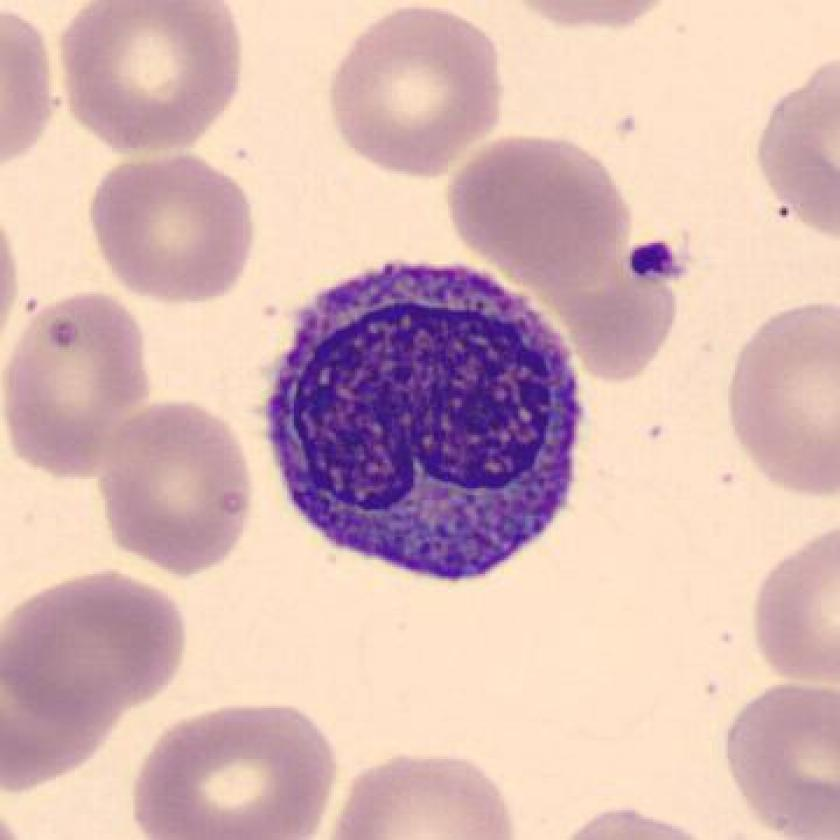monocyte: (246, 242, 612, 598)
